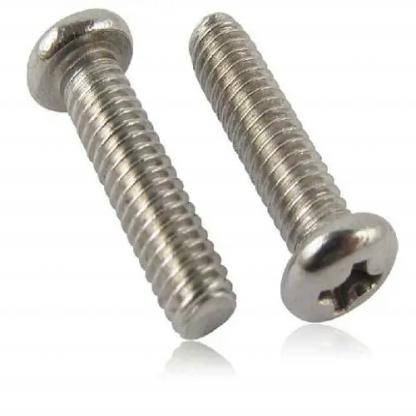FOD: (20, 7, 249, 342), (186, 2, 406, 340)
